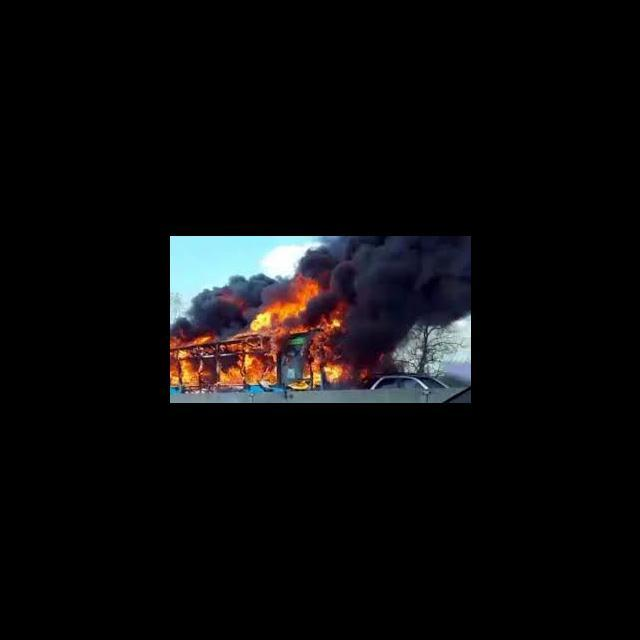Fire: (170, 334, 282, 392), (286, 350, 388, 391), (251, 278, 319, 332), (310, 302, 350, 351)
Smoke: (352, 236, 471, 348), (170, 276, 250, 332), (319, 236, 352, 302), (296, 246, 320, 276)
